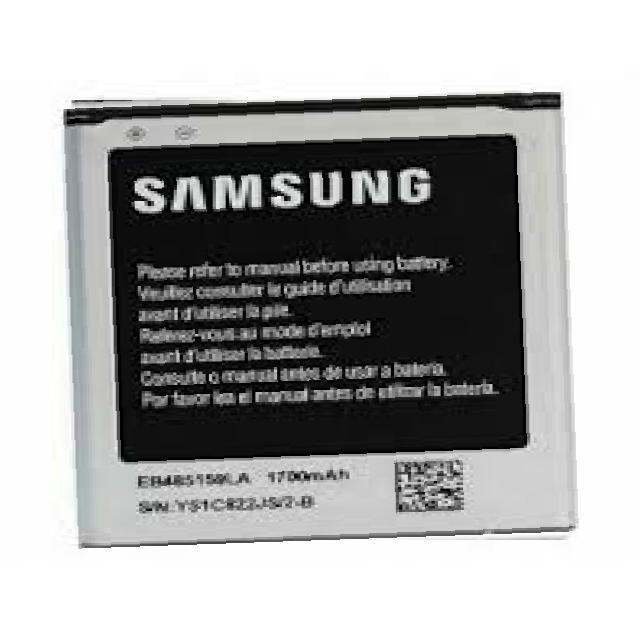Battery: (52, 72, 599, 552)
